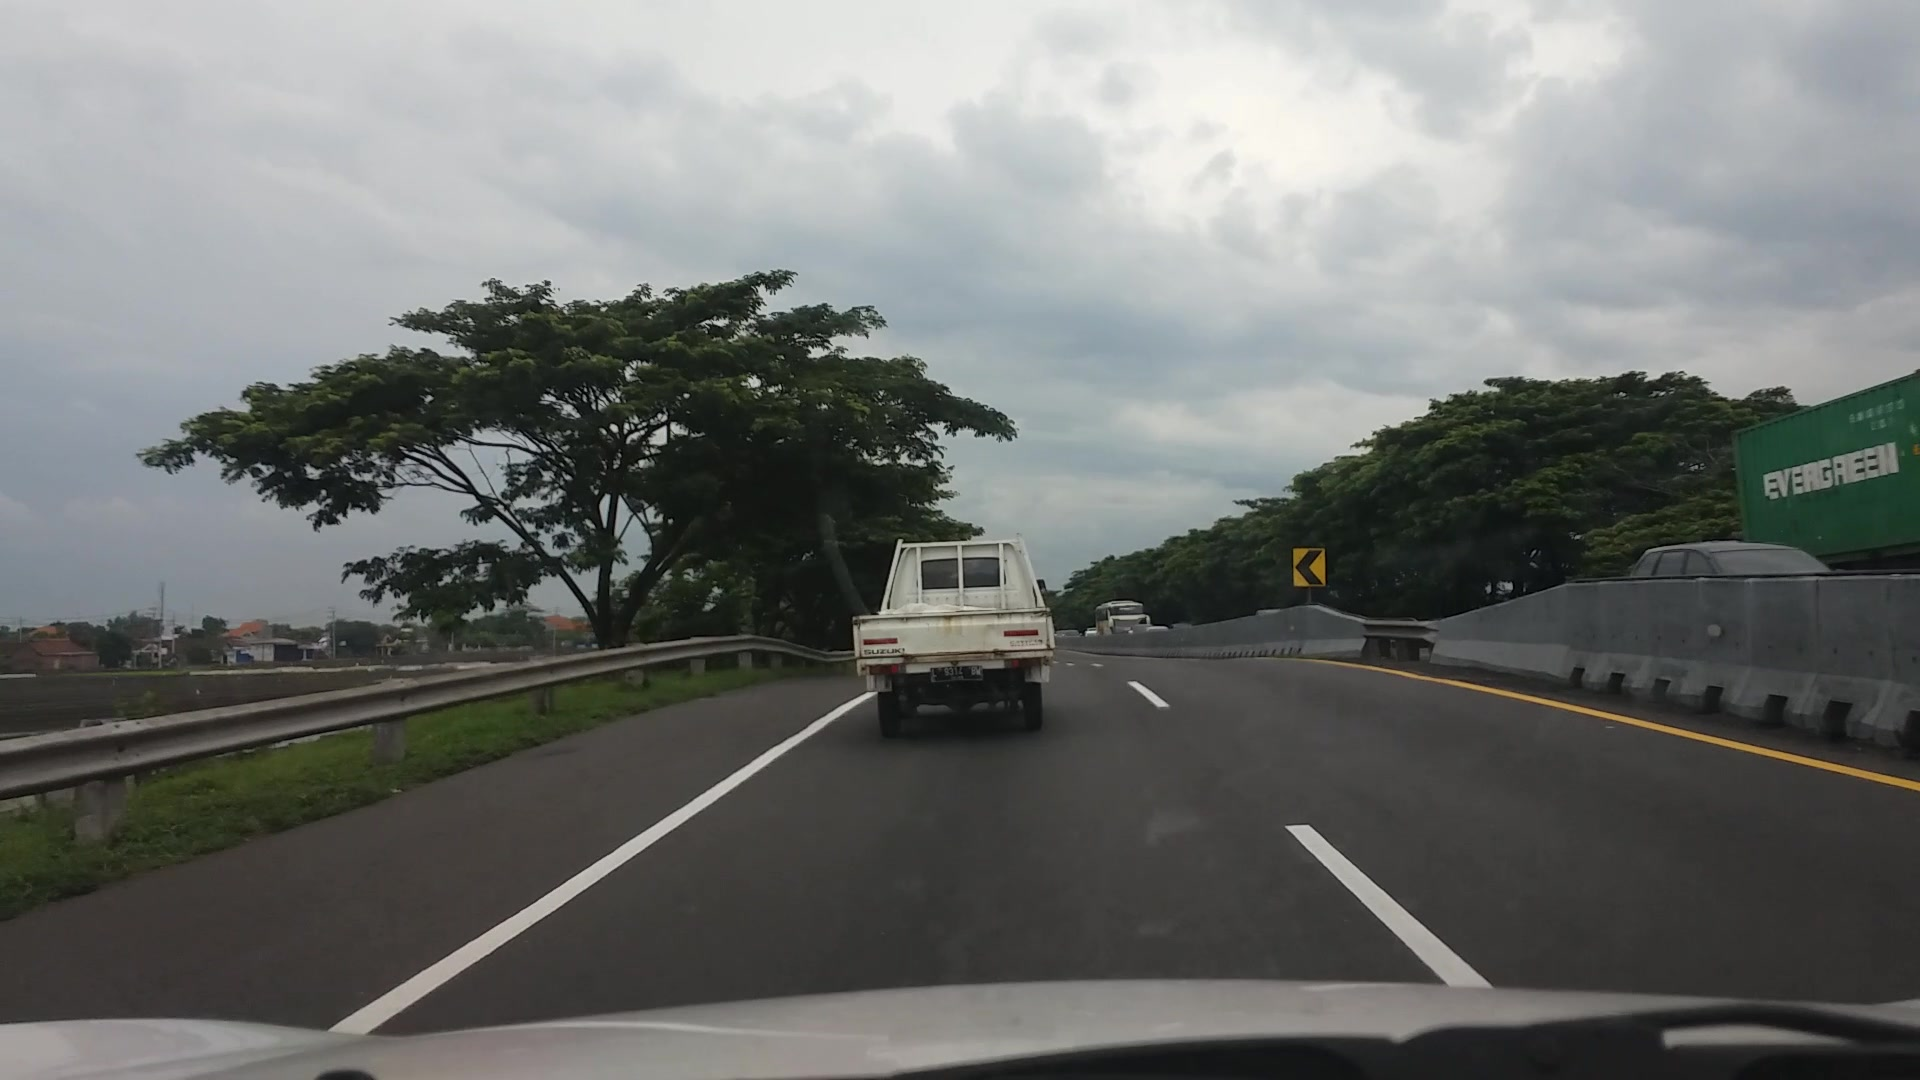plate_positive: (930, 666, 982, 682)
